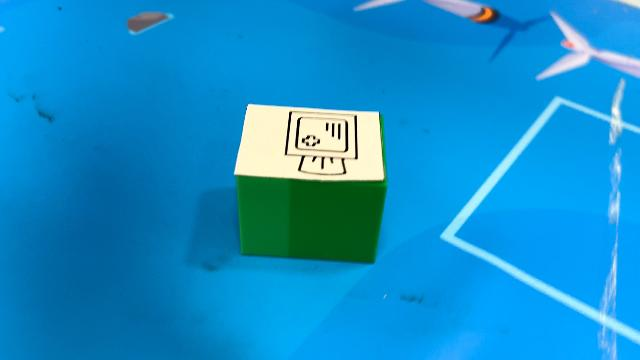napkin: (232, 102, 390, 264)
